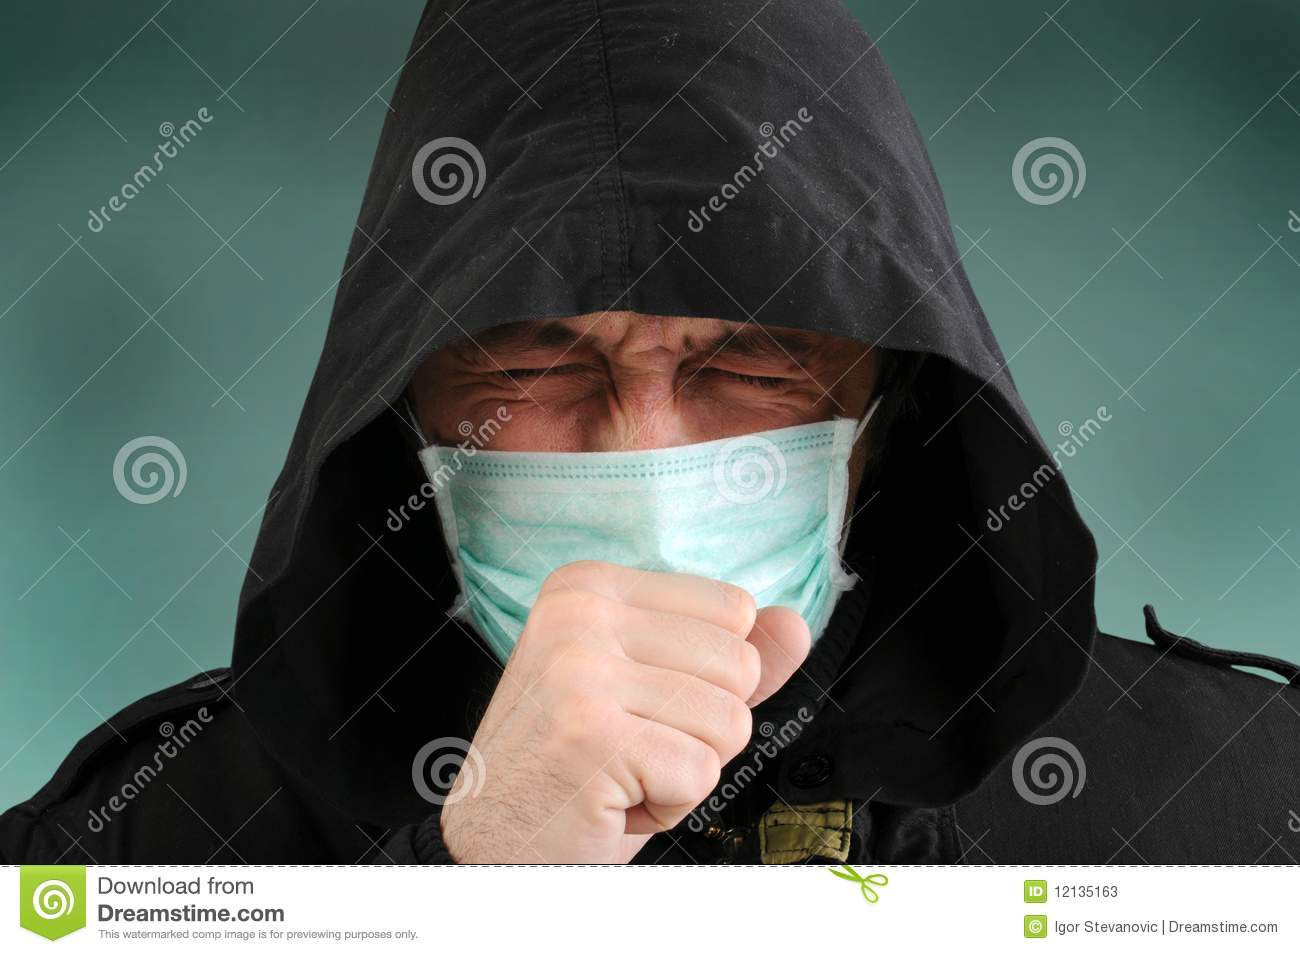mask: (419, 433, 849, 712)
